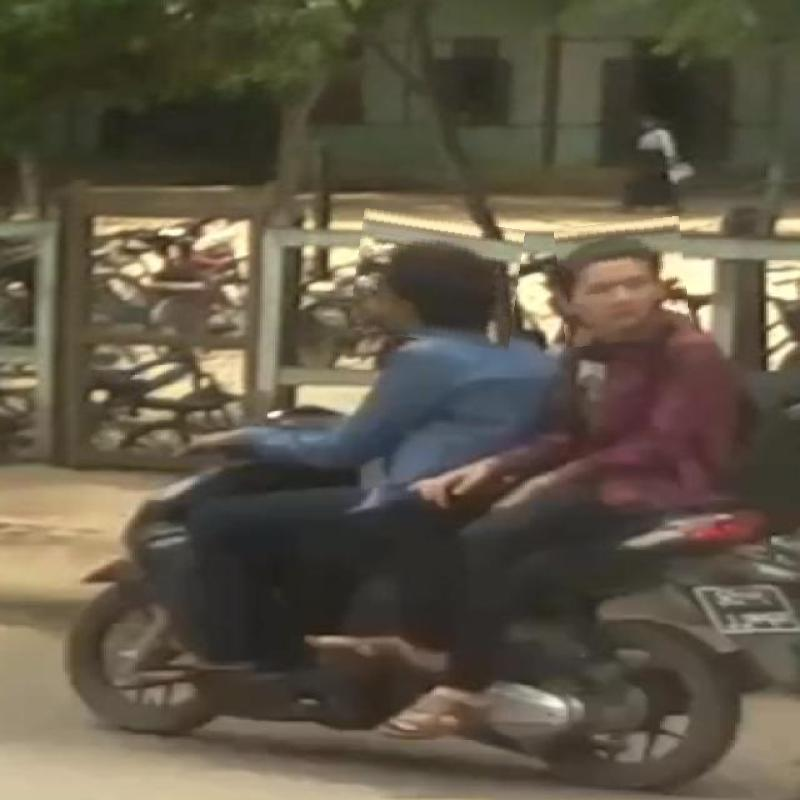nohelmet: (353, 213, 522, 346), (558, 220, 689, 346)
